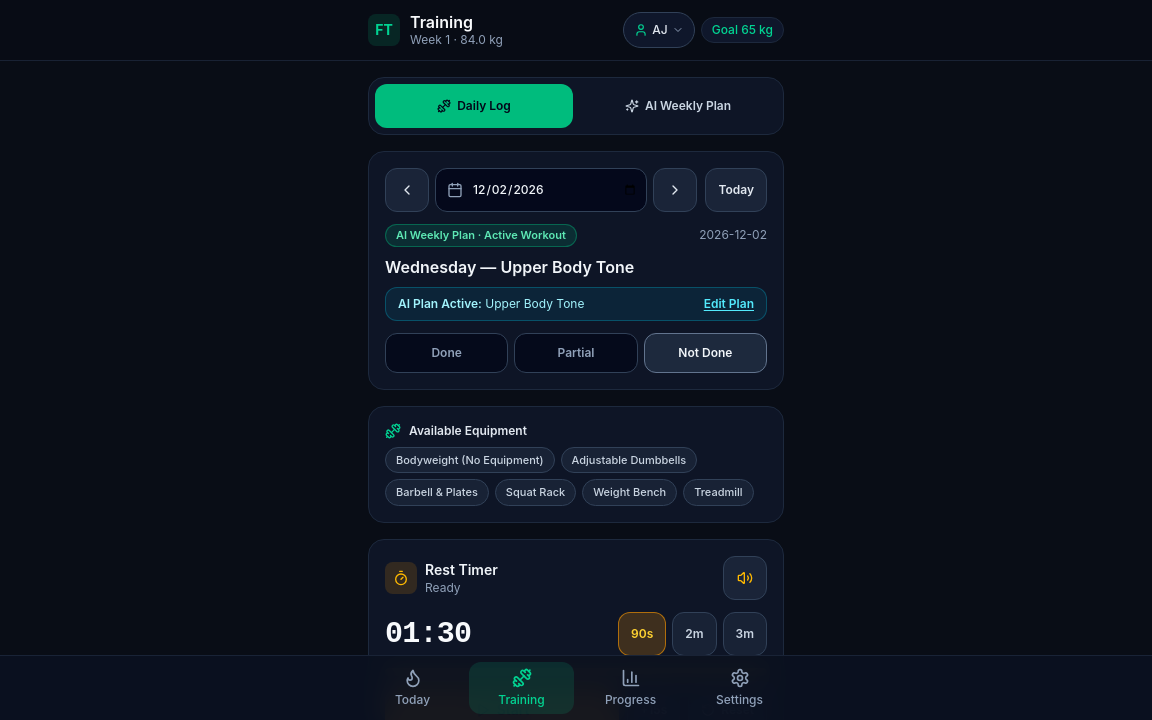
Test: AI Weekly Plan Auto-Alignment & Workout Compliance Calendar › automatically updates Daily Log workouts when an AI Weekly Plan is saved (no manual Load button required)
The width and height of the screenshot is (1152, 720).
Expected: the heading "Wednesday — Upper Body Tone" is shown, [385,256,634,276]
Click the button named "Next day".
click(676, 190)  # box [654,168,698,212]
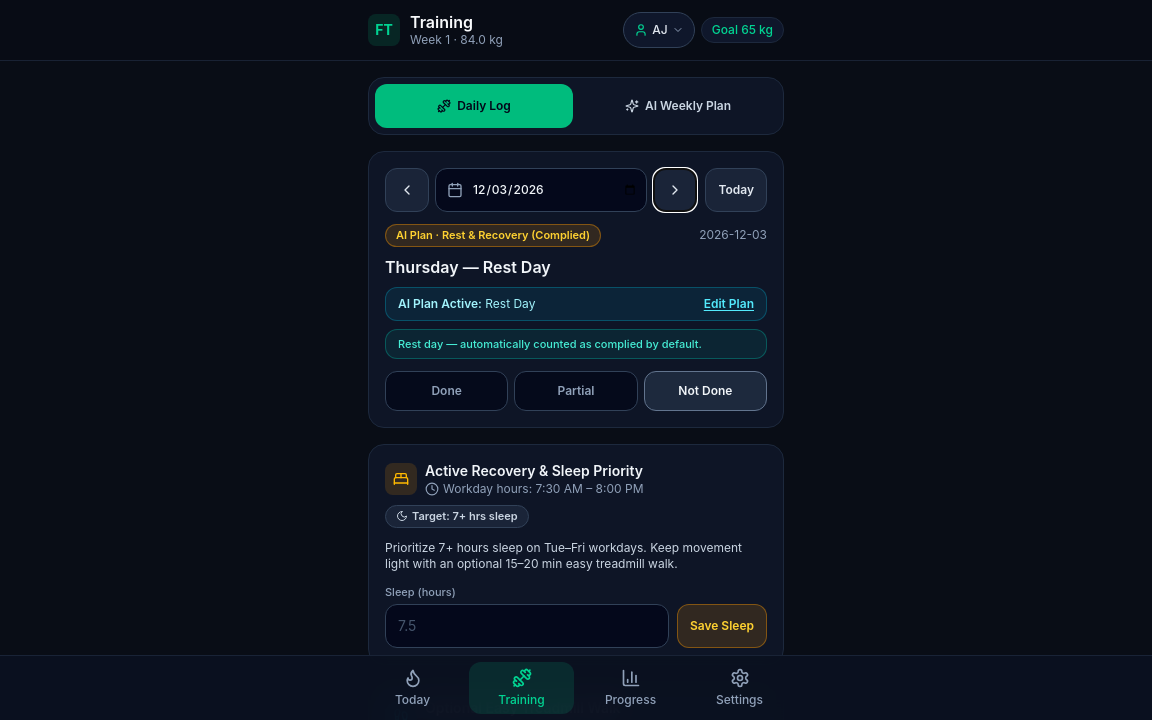
Click the button named "Next day".
click(676, 190)  # box [654,168,698,212]
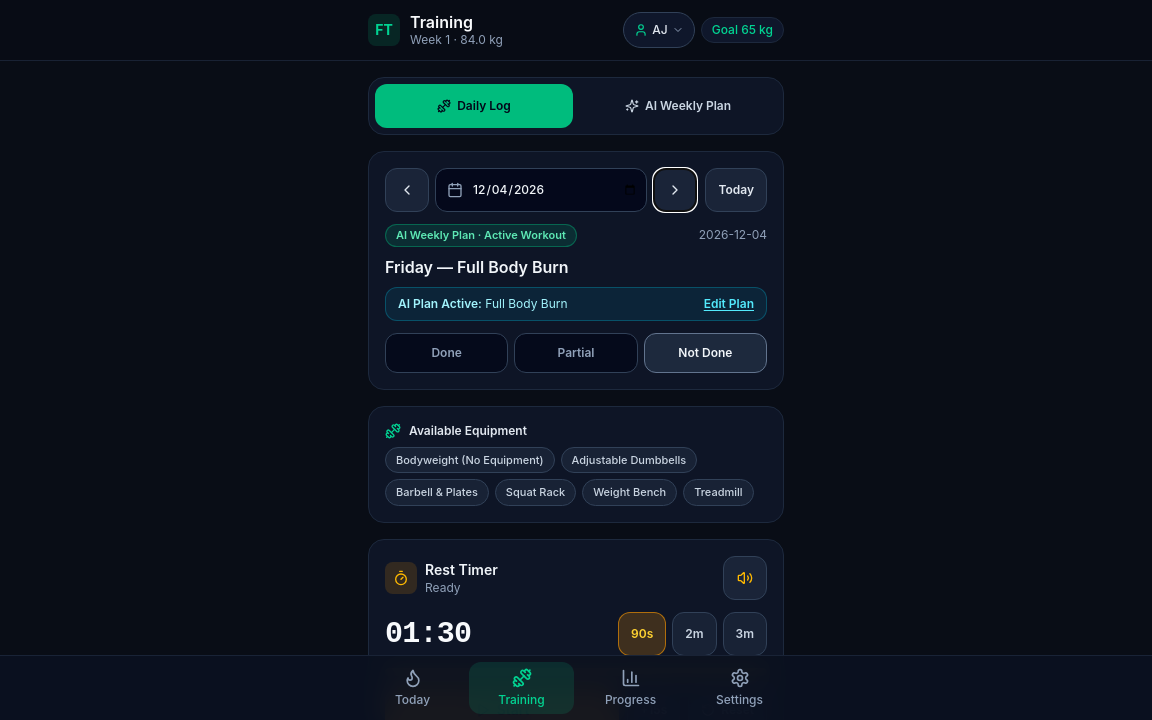
Click the button named "Next day".
click(676, 190)  # box [654,168,698,212]
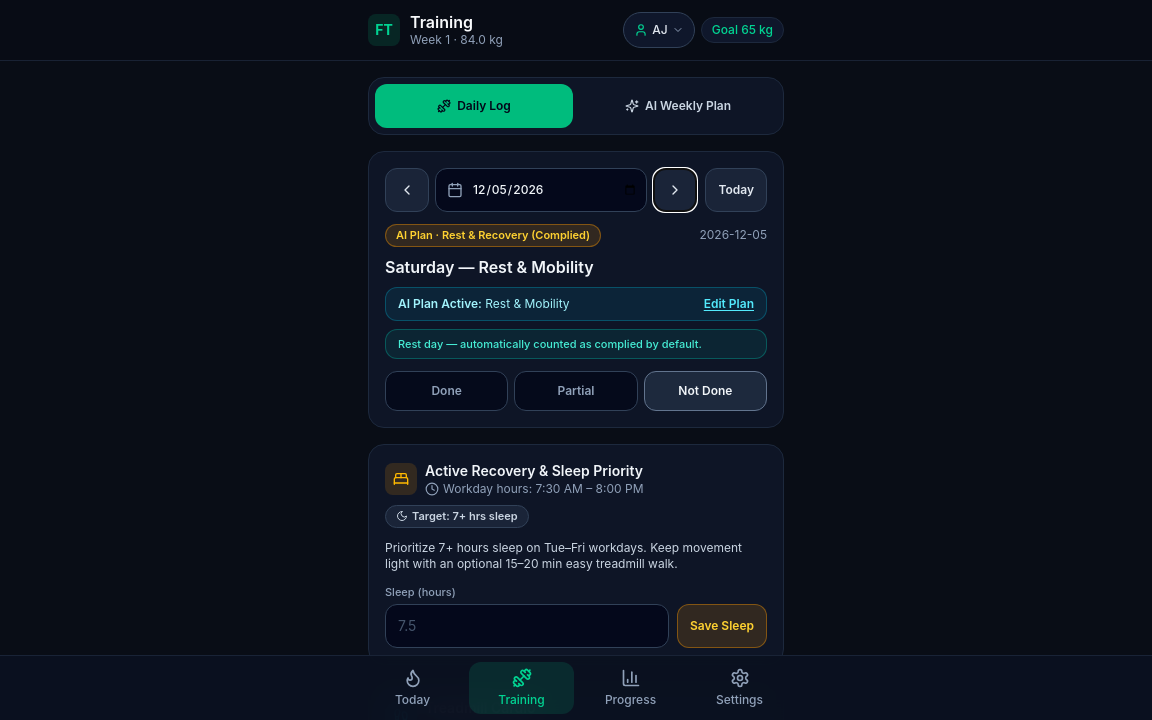
Expected: the heading "Saturday — Rest & Mobility" is shown, [385,256,594,276]
Expected: the text "Rest day — automatically counted as complied by default." is shown, [385,328,767,359]
